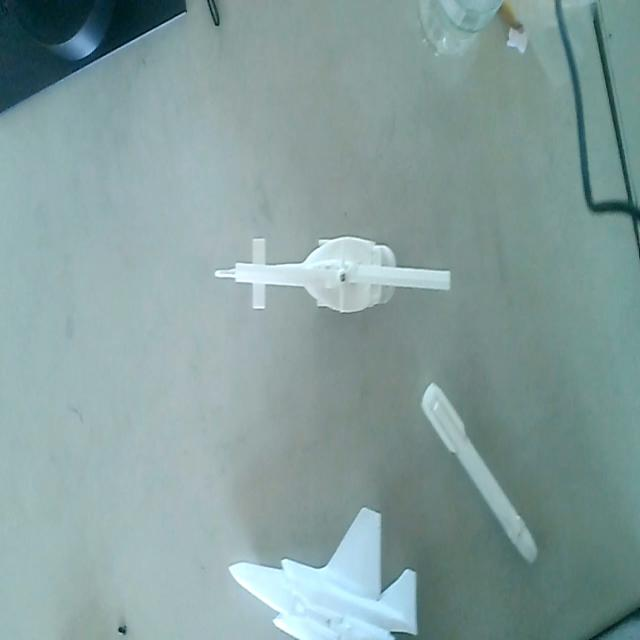Helicopter: (213, 229, 455, 338)
Jet: (225, 501, 421, 640)
Rocket: (417, 377, 541, 574)
